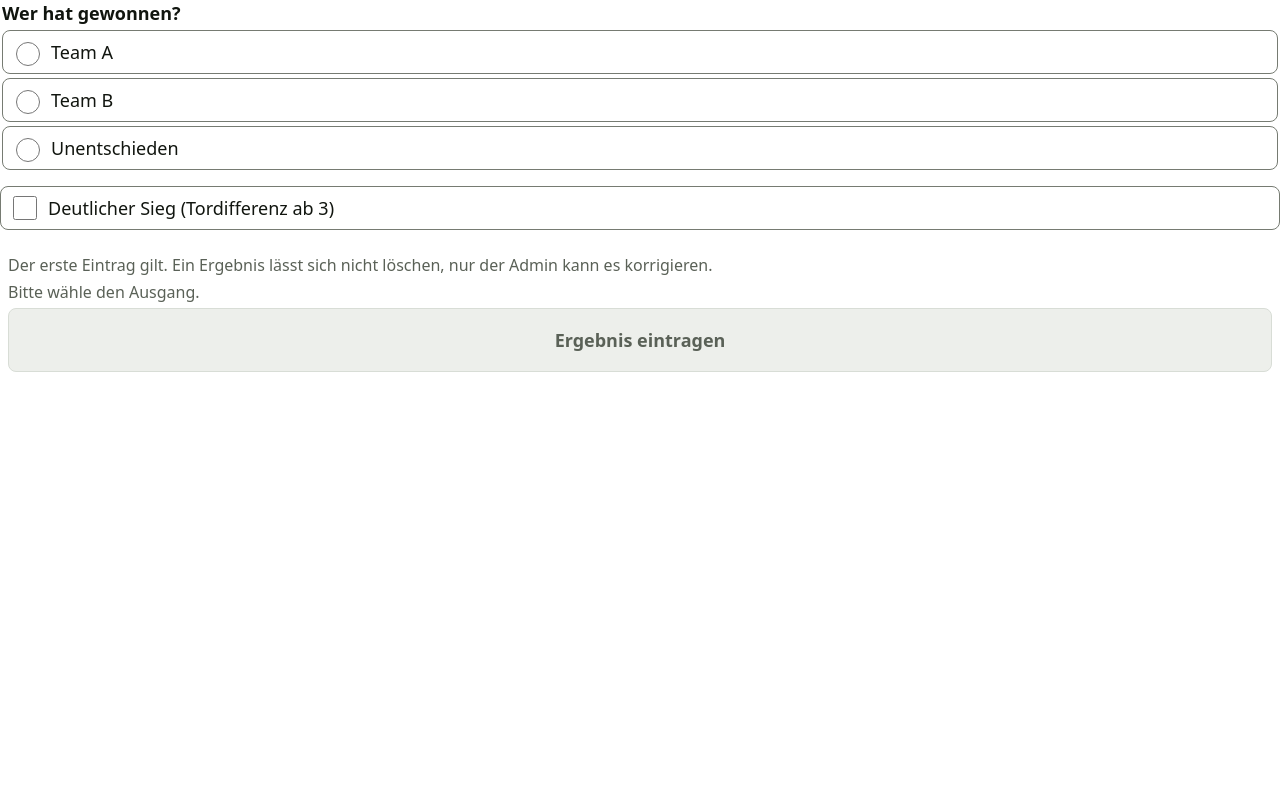
Test: ErgebnisFormular: Eintragen › fragt vor dem Senden mit dem Satz nach, der nachher dasteht
Click the radio button with test id "ergebnis-sieger-a". click: (28, 54)
box: [16,42,40,66]
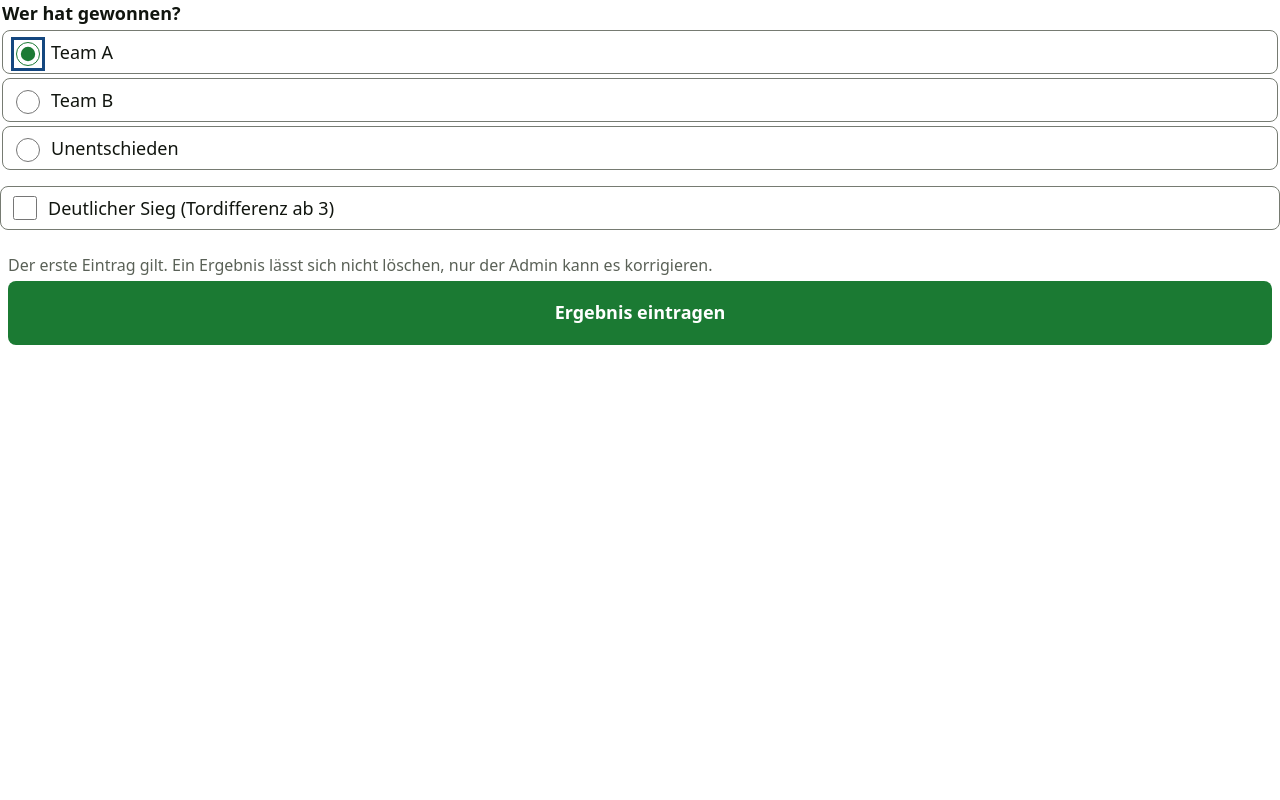
Click the checkbox with test id "ergebnis-deutlich". click: (25, 208)
box: [13,196,37,220]
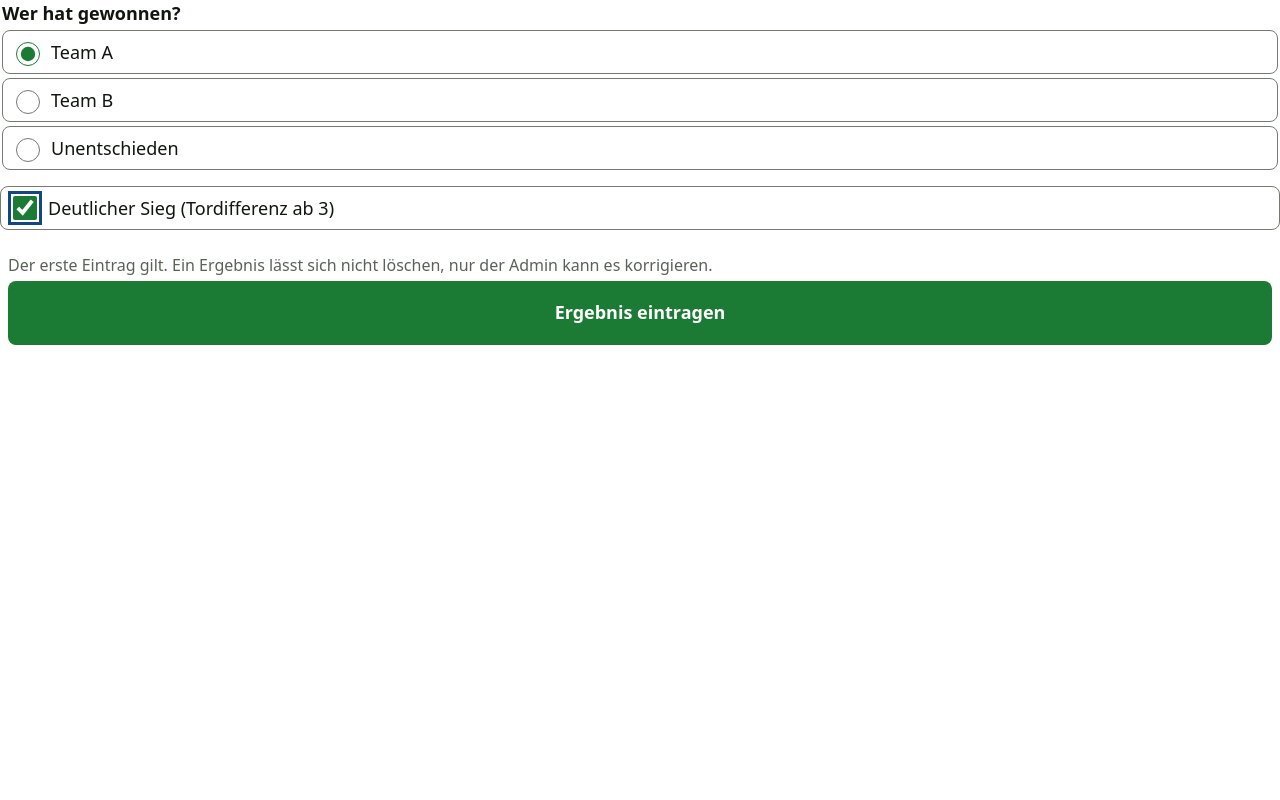
Click the button with test id "ergebnis-absenden". click: (640, 313)
box: [8,281,1272,345]
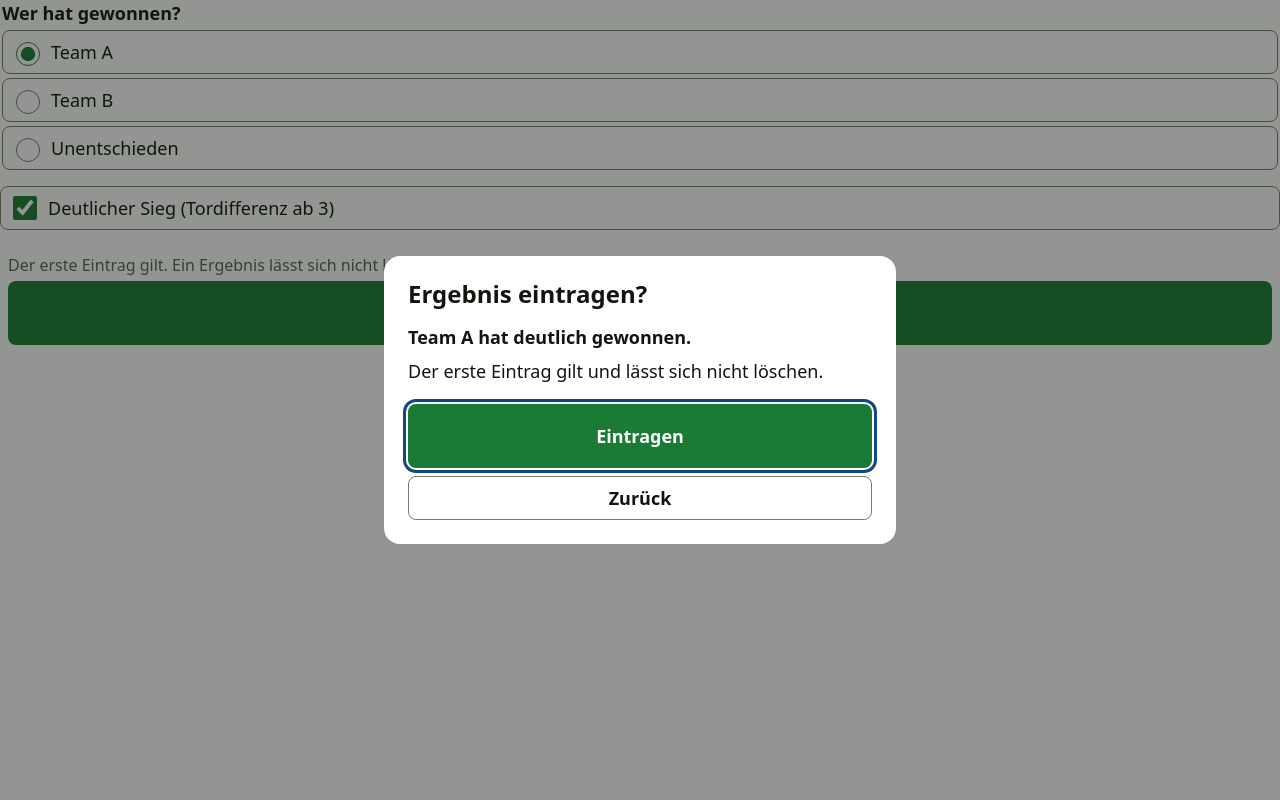
Expected: the text with test id "ergebnis-zusammenfassung" reads "Team A hat deutlich gewonnen.", [408,325,691,349]
